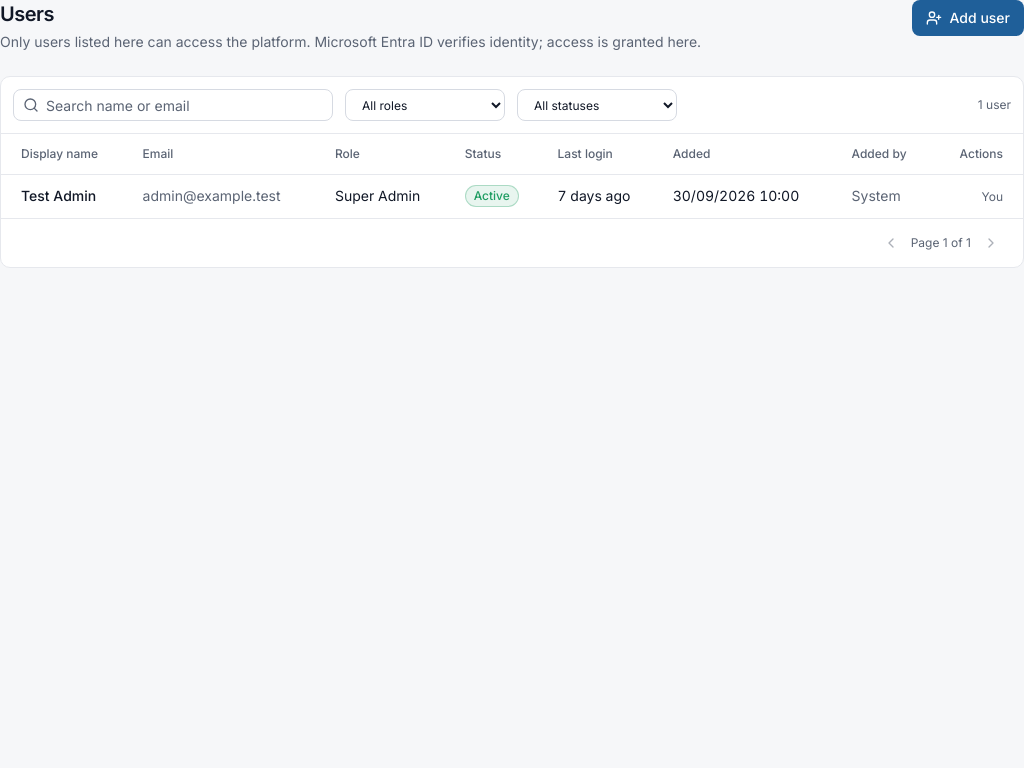
Users page › shows the API error when adding an existing user
The width and height of the screenshot is (1024, 768).
Click the button "Add user": (968, 18) [912,0,1023,36]
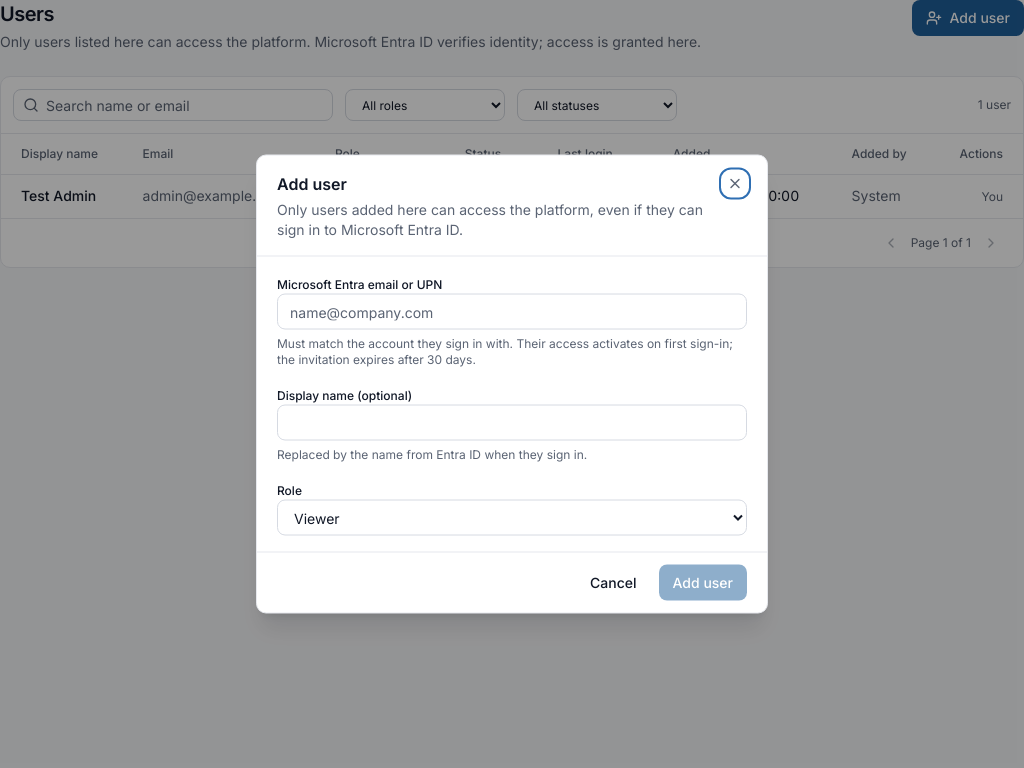
In the field labelled "Microsoft Entra email or UPN": (512, 312) [277,294,747,330], type "john@example.test"
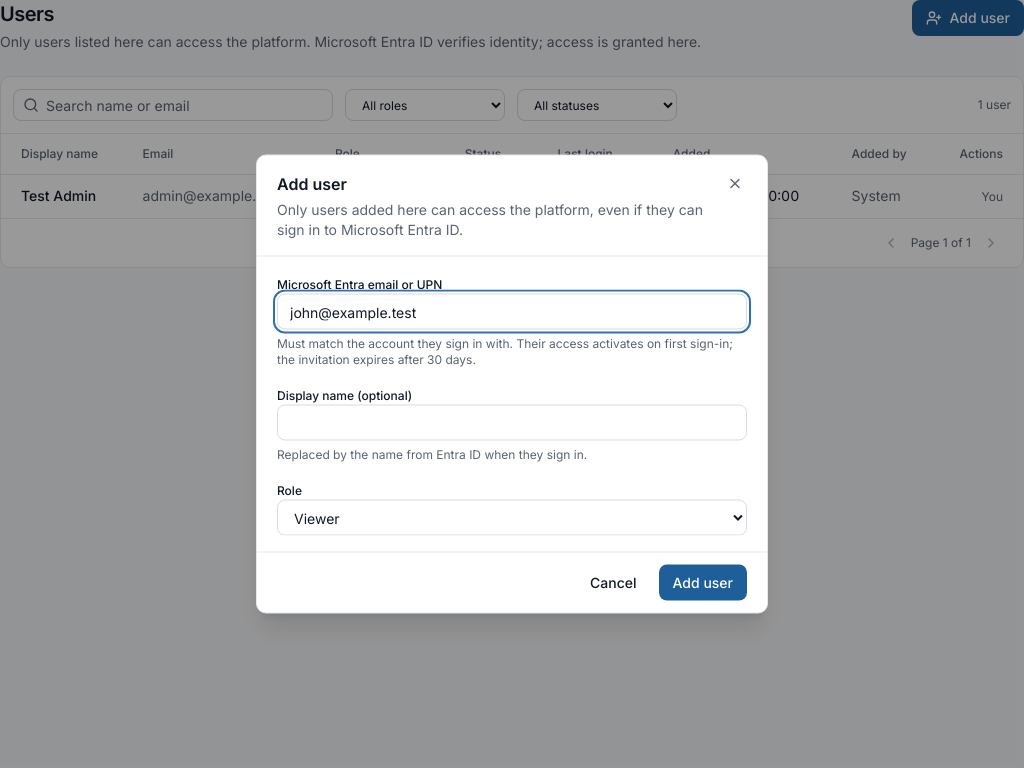
Click the button "Add user": (703, 582) [658,564,747,600]
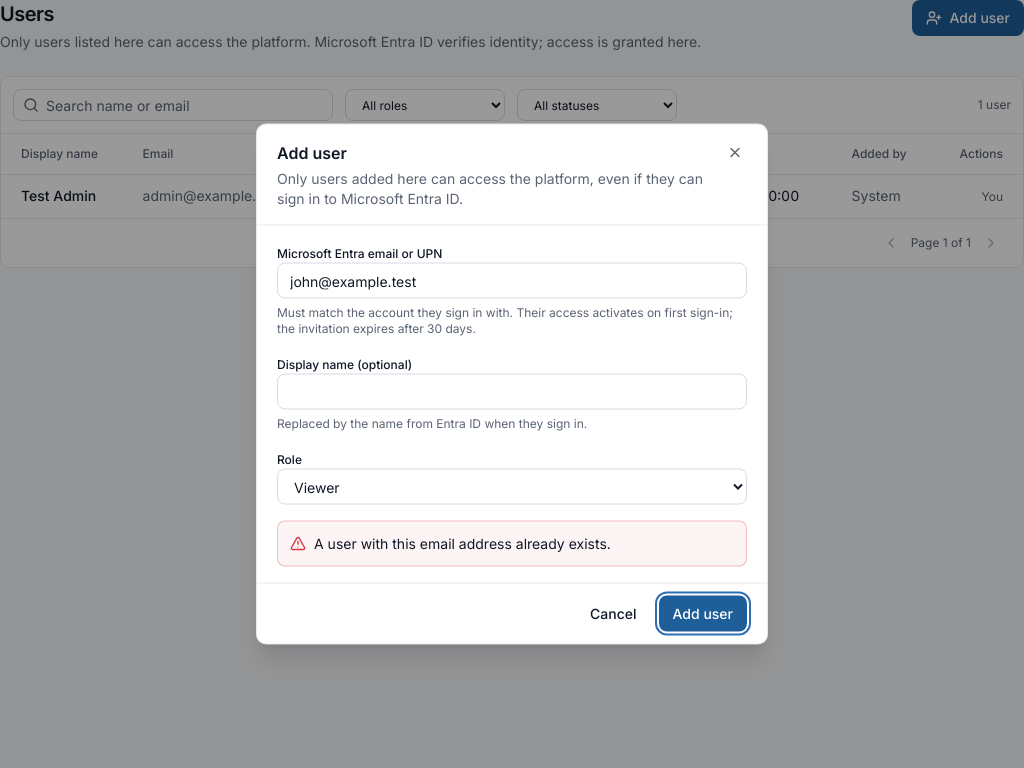
Now the text "A user with this email address already exists." is shown, box [314,534,611,554]
